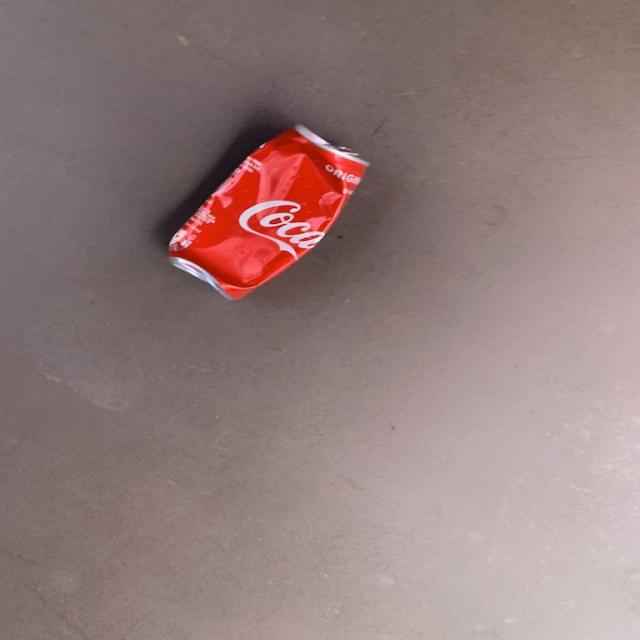litter: (158, 126, 372, 309)
